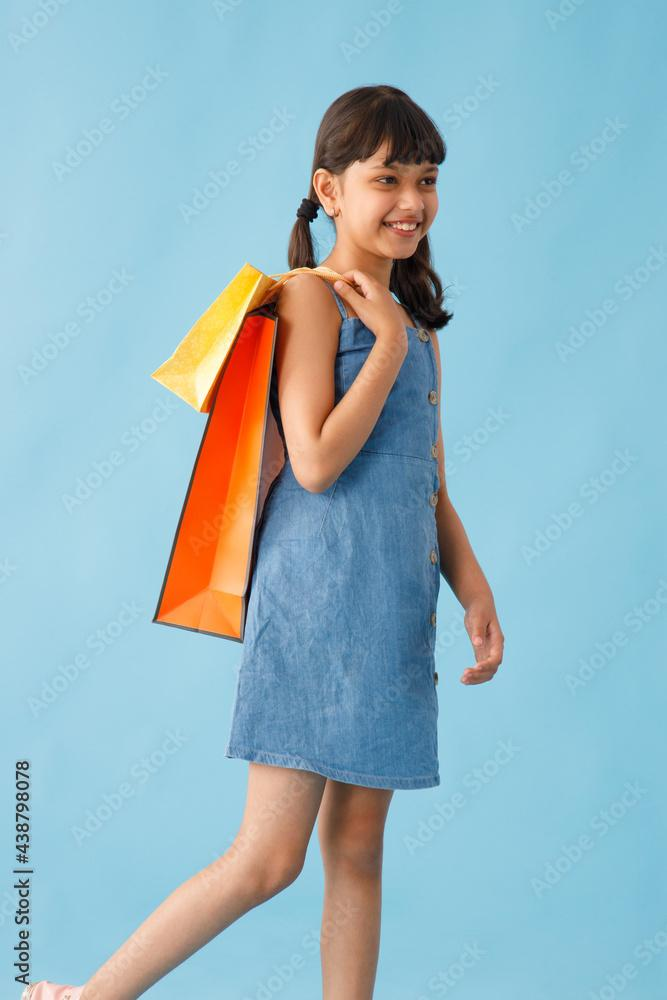Human: (164, 44, 510, 1000)
